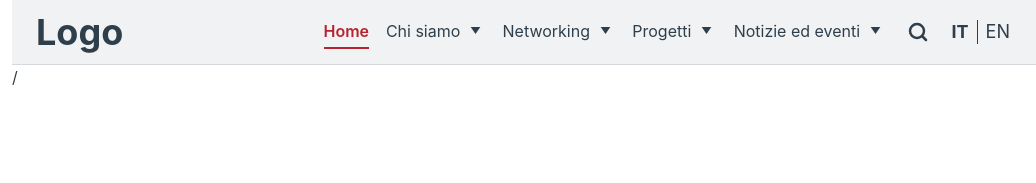
Test: dropdown items scroll targets (it) › /networking › clicking "Partner" navigates to the page with its #hash and closes the dropdown
Click the button named "Sottomenu Networking". click: (605, 31)
box: [595,19,615,43]
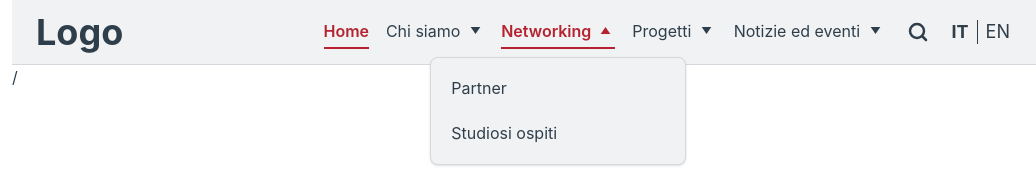
Click the link "Partner". click: (479, 88)
box: [451,78,507,98]
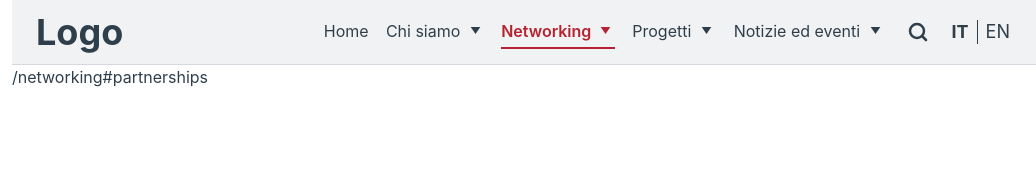
Expected: the text with test id "location" reads "/networking#partnerships", [12,67,208,87]
